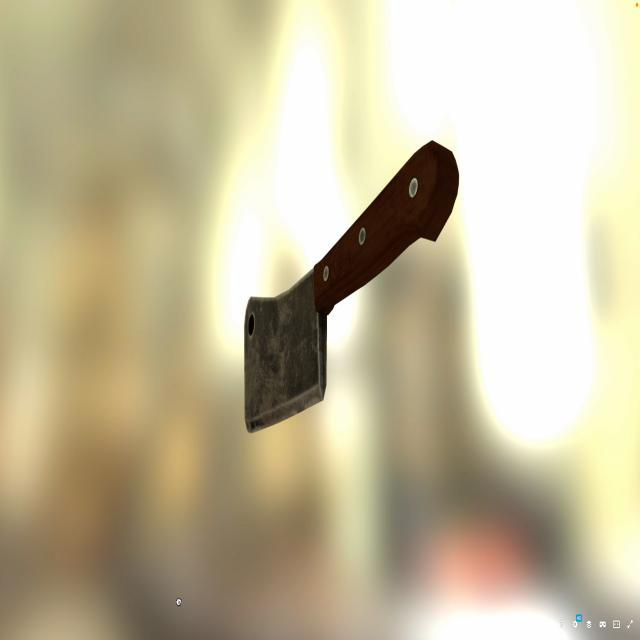cleaver: (238, 123, 470, 446)
